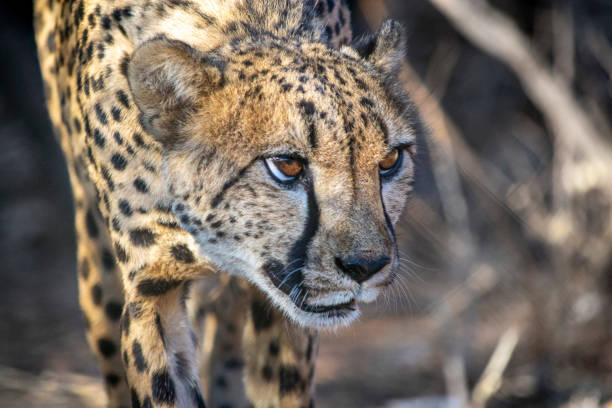cheetah: (96, 13, 455, 357)
